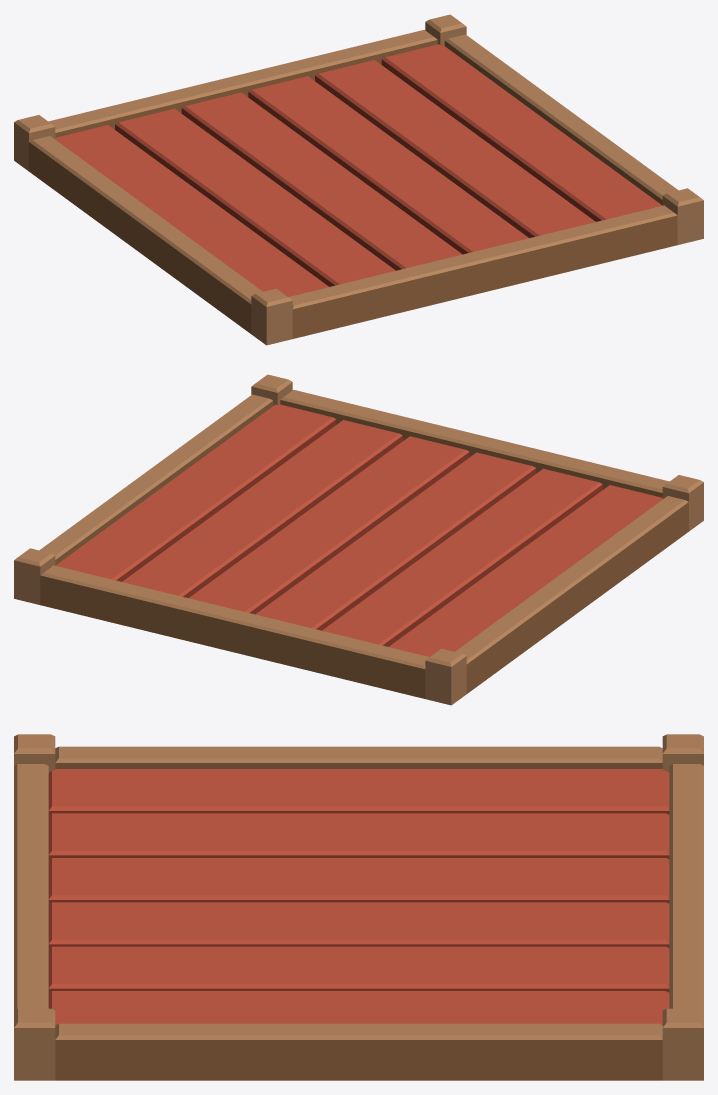
File: FMS_Workshop_MOD_08.fbx
3 views of the same model, one above another, from view 1: azimuth 30°, elevation 25°; view 2: azimuth 150°, elevation 25°; view 3: azimuth 270°, elevation 25° (orthographic). The views are drawn at different scales.
Visible parts, largest first — view 1: FMS_Workshop_MOD_08_Body; view 2: FMS_Workshop_MOD_08_Body; view 3: FMS_Workshop_MOD_08_Body.
Boxes of the visible parts, bbox=[...] form: FMS_Workshop_MOD_08_Body: bbox=[14, 14, 703, 345]; FMS_Workshop_MOD_08_Body: bbox=[14, 374, 703, 705]; FMS_Workshop_MOD_08_Body: bbox=[14, 734, 703, 1080].
Bounding box in the file's own units: 2 × 0.18 × 2.
Materials: 1 (1 with a texture image).
